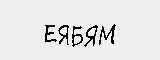Б: (71, 23, 83, 47)
Е: (42, 22, 58, 45)
М: (98, 21, 117, 46)
Я: (56, 22, 69, 49), (84, 22, 98, 47)
